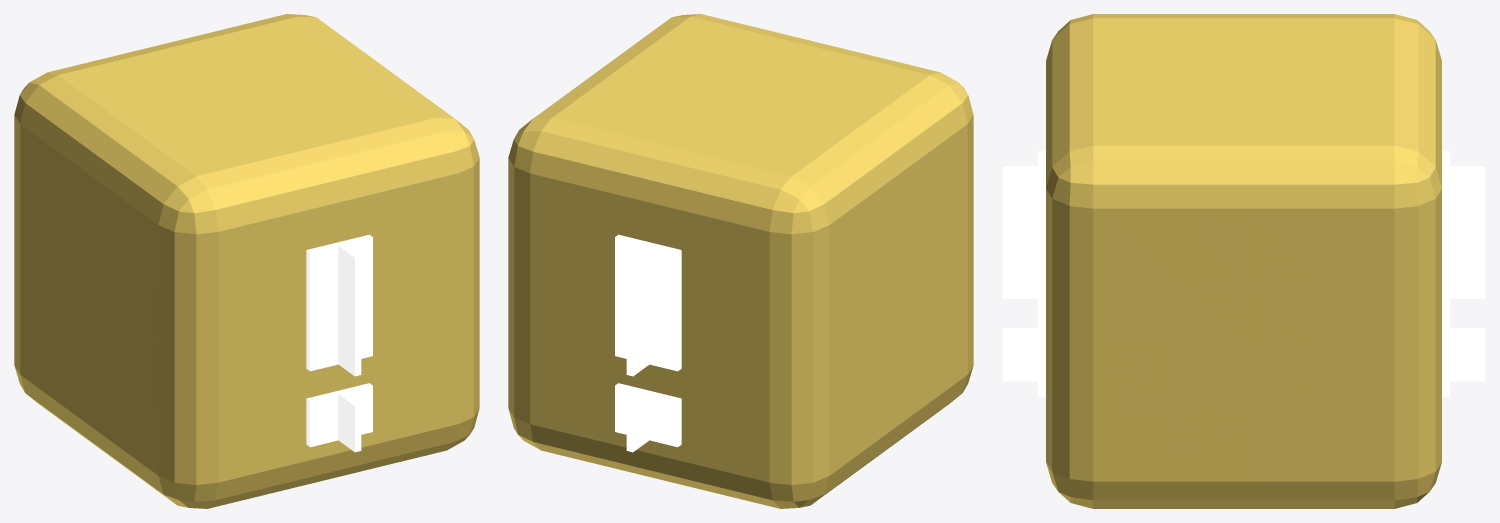
Rendered from item_crate.glb.
The picture shows the model from 3 angles, left to right: view 1: azimuth 30°, elevation 25°; view 2: azimuth 150°, elevation 25°; view 3: azimuth 270°, elevation 25°; orthographic projection. The views are drawn at different scales.
Parts seen in each view (by area): view 1: item_crate; view 2: item_crate; view 3: item_crate.
Boxes of the visible parts, <box> form: item_crate: <box>14,14,479,508</box>; item_crate: <box>508,14,973,508</box>; item_crate: <box>1002,14,1485,508</box>.
Size of the model in its own units: 1 by 1 by 1.22.
